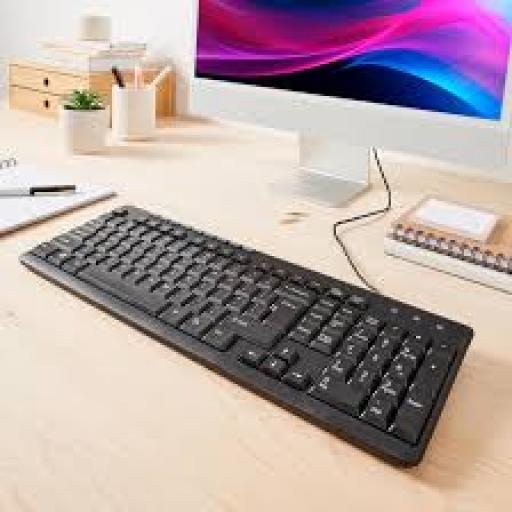KEYBOARD-2: (21, 206, 471, 464)
